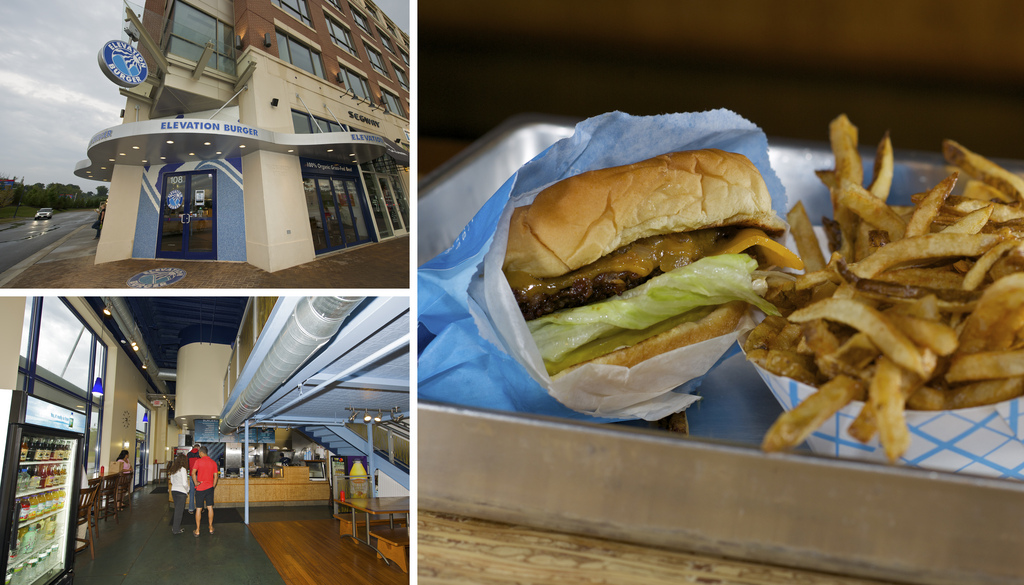chopped lettuce: (543, 255, 756, 362)
slice of bread: (511, 153, 770, 267)
